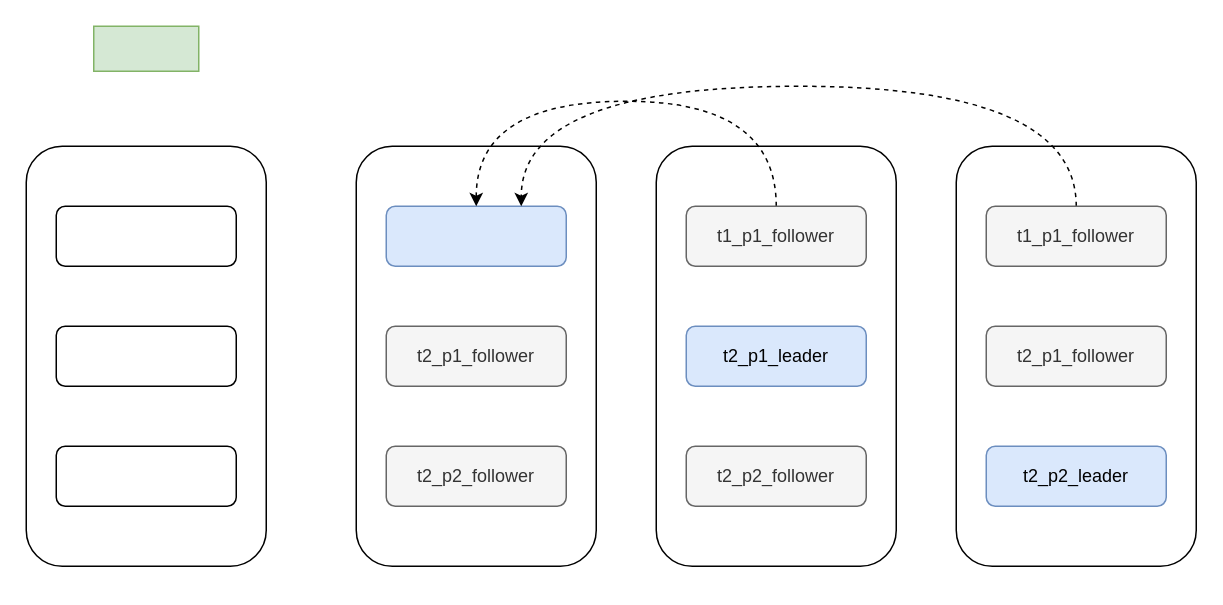
The diagram is 1223 pixels wide and 605 high, and some of its shapes have lost their labels. The box of each missing label's shape, as (x1, y1, x2, y2) in pixels:
Producer: (92, 25, 199, 71)
t1_p1_leader: (385, 205, 566, 266)
